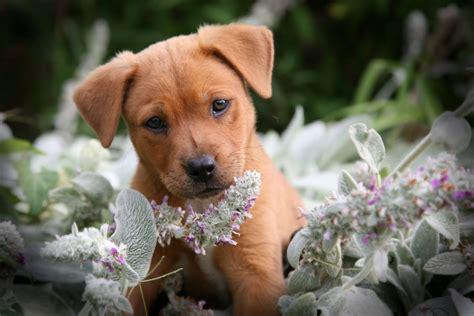dog: (74, 26, 303, 315)
